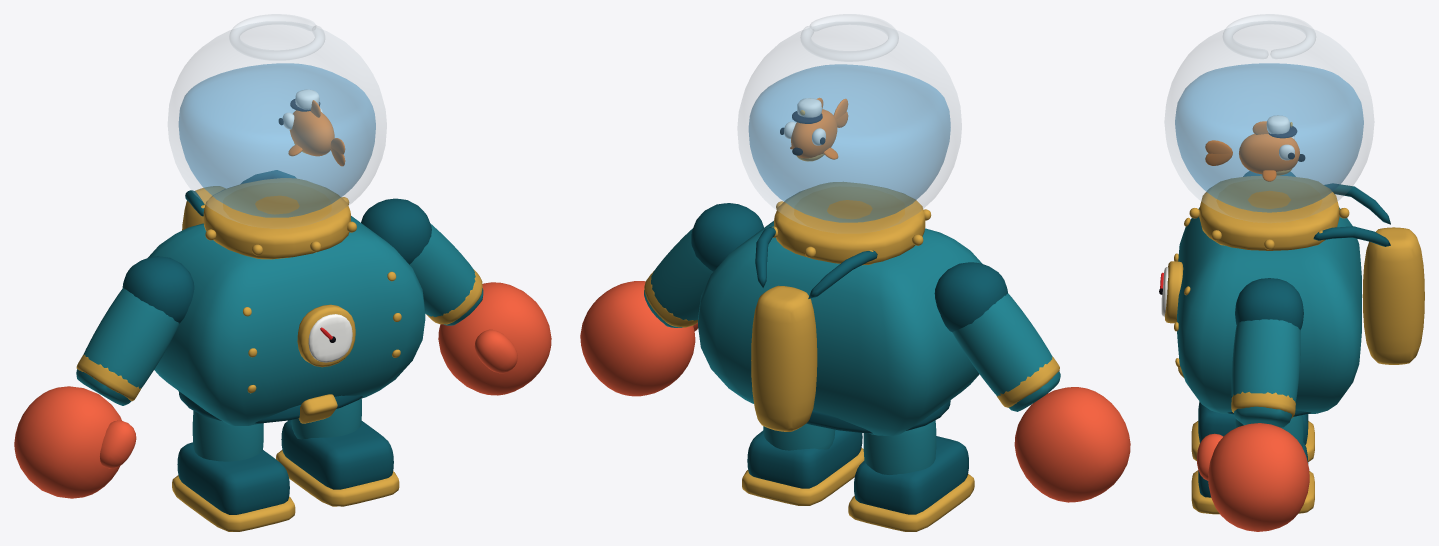
The model's file is captain_bubbles.glb.
The picture shows the model from 3 angles, left to right: view 1: azimuth 30°, elevation 25°; view 2: azimuth 150°, elevation 25°; view 3: azimuth 270°, elevation 25°; orthographic projection. The views are drawn at different scales.
Visible parts, largest first — view 1: CB_Torso, CB_Head, CB_Water, CB_Hand_R, CB_Arm_R, CB_Hand_L, CB_Foot_R, CB_Foot_L, CB_Arm_L, CB_Leg_R, CB_Fish, CB_Leg_L; view 2: CB_Torso, CB_Head, CB_Water, CB_Arm_R, CB_Hand_R, CB_Hand_L, CB_Foot_R, CB_Arm_L, CB_Foot_L, CB_Leg_R, CB_Fish, CB_Leg_L; view 3: CB_Head, CB_Torso, CB_Water, CB_Hand_L, CB_Arm_L, CB_Fish, CB_Foot_R, CB_Foot_L, CB_FishTail, CB_Leg_L.
Part boxes in pixels (x1,y1,x2,y2): CB_Torso: [148, 170, 425, 425]; CB_Head: [168, 14, 386, 259]; CB_Water: [178, 63, 375, 217]; CB_Hand_R: [14, 386, 136, 498]; CB_Arm_R: [76, 256, 194, 405]; CB_Hand_L: [438, 282, 551, 395]; CB_Foot_R: [172, 442, 295, 531]; CB_Foot_L: [276, 420, 399, 506]; CB_Arm_L: [361, 198, 483, 325]; CB_Leg_R: [192, 410, 263, 461]; CB_Fish: [278, 89, 334, 156]; CB_Leg_L: [291, 398, 361, 439]; CB_Torso: [698, 221, 982, 435]; CB_Head: [737, 14, 961, 265]; CB_Water: [748, 64, 950, 222]; CB_Arm_R: [934, 262, 1060, 411]; CB_Hand_R: [1014, 387, 1130, 502]; CB_Hand_L: [580, 281, 698, 396]; CB_Foot_R: [848, 436, 974, 531]; CB_Arm_L: [644, 203, 763, 327]; CB_Foot_L: [742, 429, 864, 505]; CB_Leg_R: [863, 420, 936, 474]; CB_Fish: [780, 98, 838, 161]; CB_Leg_L: [763, 423, 835, 450]; CB_Head: [1164, 14, 1374, 250]; CB_Torso: [1159, 183, 1424, 416]; CB_Water: [1175, 63, 1363, 212]; CB_Hand_L: [1197, 423, 1309, 531]; CB_Arm_L: [1231, 278, 1303, 427]; CB_Fish: [1239, 115, 1305, 181]; CB_Foot_R: [1191, 401, 1314, 461]; CB_Foot_L: [1191, 442, 1314, 514]; CB_FishTail: [1205, 140, 1232, 165]; CB_Leg_L: [1235, 415, 1303, 448].
Size of the model in its own units: 1.81 by 1.51 by 0.819.
